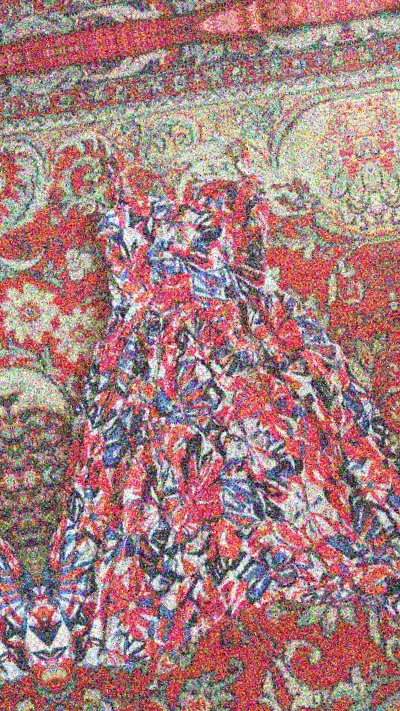Dress: (6, 106, 400, 709), (370, 44, 400, 646), (0, 180, 21, 711)
